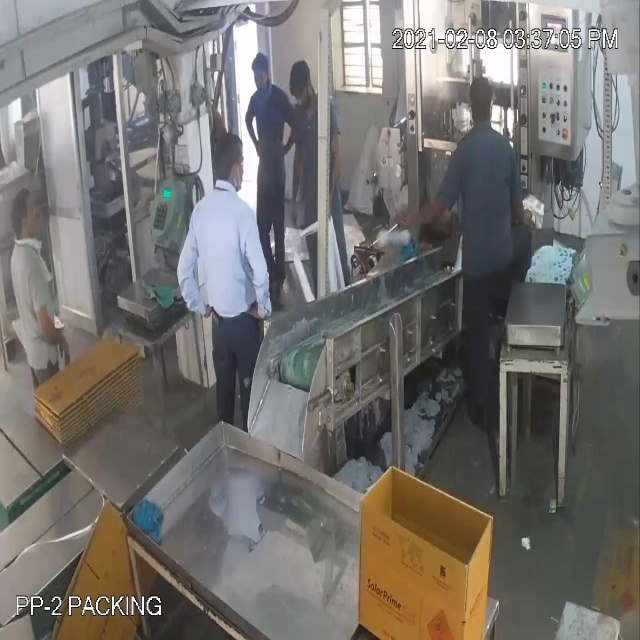Sin_guantes: (238, 213, 284, 342), (32, 285, 80, 385), (395, 173, 446, 241)
